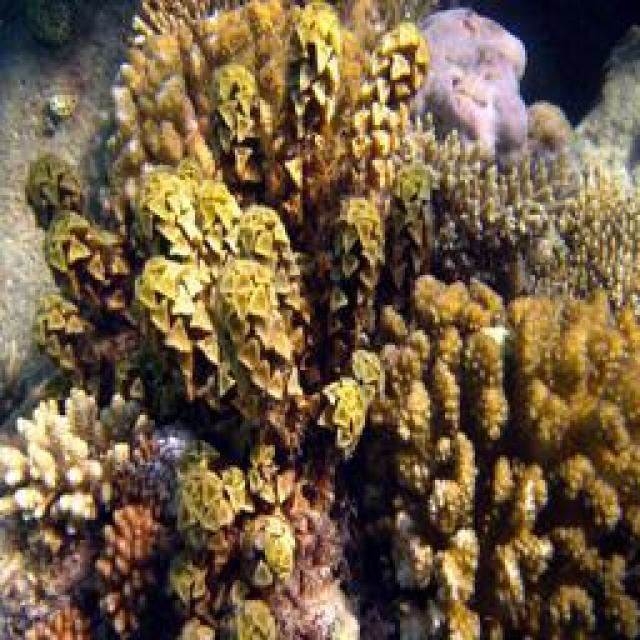reefs: (25, 2, 434, 638), (355, 275, 638, 638), (92, 0, 445, 247), (391, 111, 638, 308), (0, 387, 160, 559), (19, 498, 175, 638), (413, 10, 528, 170)
